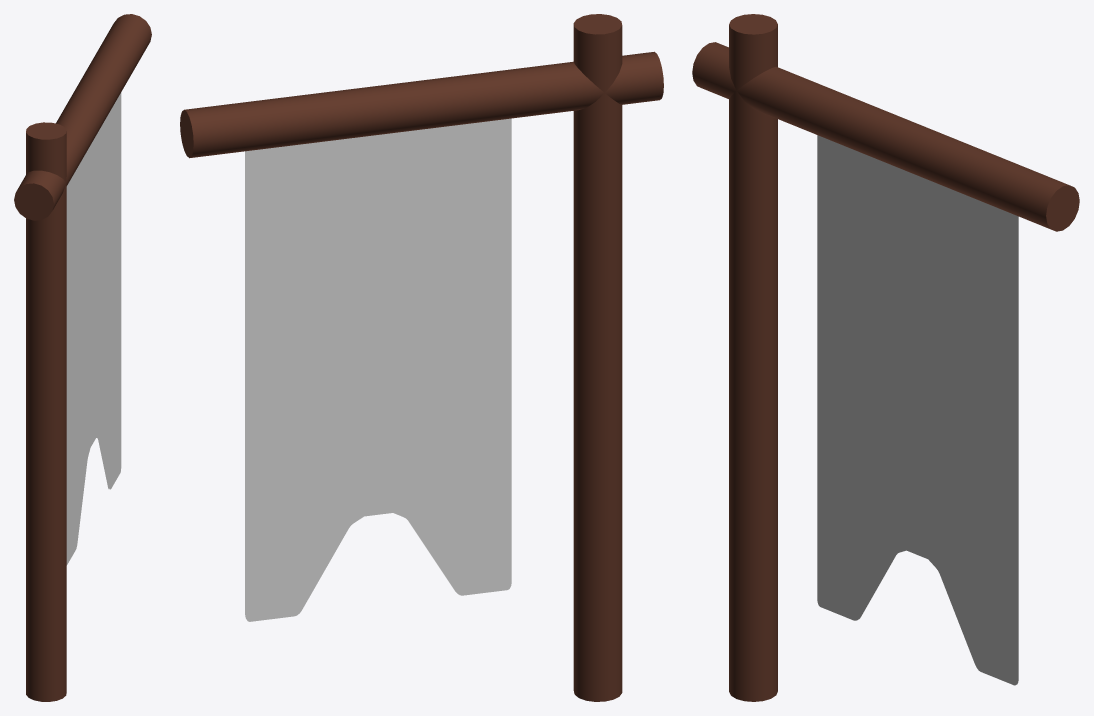
File: flag.fbx
3 renders of one model, left to right at view 1: azimuth 30°, elevation 25°; view 2: azimuth 150°, elevation 25°; view 3: azimuth 270°, elevation 25°, orthographic. The views are drawn at different scales.
Parts seen in each view (by area): view 1: Cylinder.001; view 2: Cylinder.001; view 3: Cylinder.001.
Boxes of the visible parts, x1,y1,x2,y2 form: Cylinder.001: [14, 14, 151, 701]; Cylinder.001: [180, 14, 663, 701]; Cylinder.001: [692, 14, 1079, 701].
Bounding box in the file's own units: 2.7 × 2.8 × 5.31.
